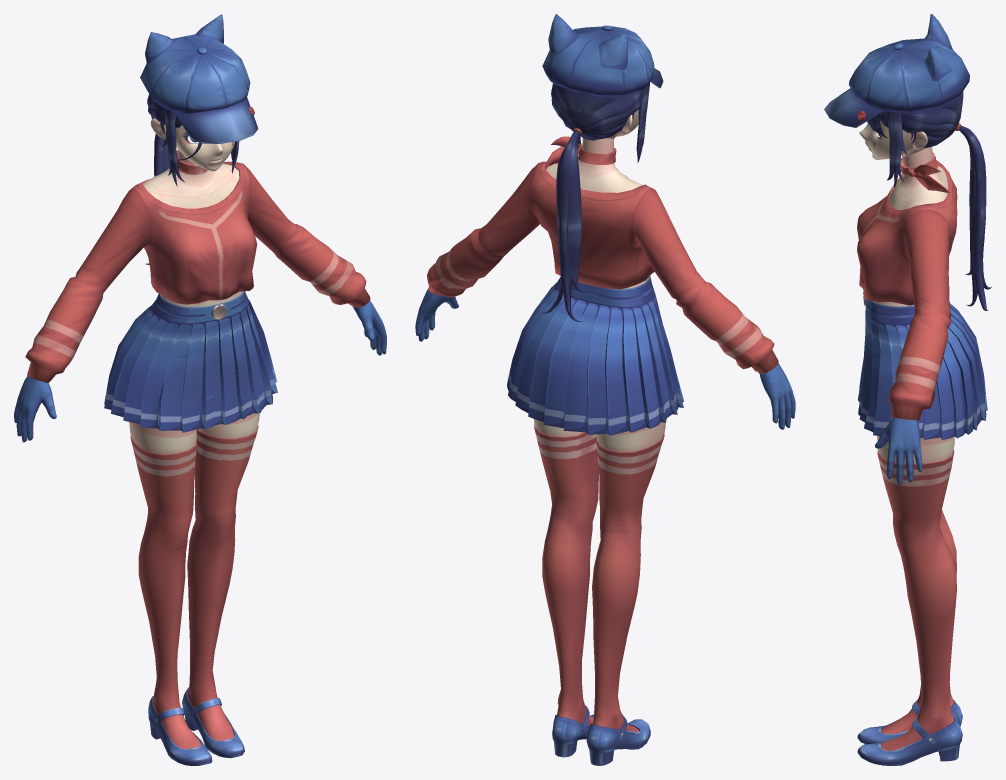
File: avatar.glb
3 renders of one model, left to right at view 1: azimuth 30°, elevation 25°; view 2: azimuth 150°, elevation 25°; view 3: azimuth 270°, elevation 25°, orthographic.
Parts seen in each view (by area): view 1: Sweater_1_004, Pantyhose_003, Skirt_005, CapCap, Body_007, Shoes_003, Gloves, Hair_004_1, Head_1_006; view 2: Pantyhose_003, Sweater_1_004, Skirt_005, Hair_004_1, CapCap, Body_007, Shoes_003, Gloves; view 3: Sweater_1_004, Pantyhose_003, Skirt_005, CapCap, Hair_004_1, Shoes_003, Body_007, Gloves, Head_1_006, Attribute_002.
Part boxes in pixels (x1,y1,x2,y2): Sweater_1_004: (25, 152, 370, 383); Pantyhose_003: (130, 425, 258, 748); Skirt_005: (104, 291, 277, 432); CapCap: (140, 14, 258, 143); Body_007: (129, 149, 259, 454); Shoes_003: (148, 687, 244, 765); Gloves: (14, 300, 386, 442); Hair_004_1: (145, 94, 239, 264); Head_1_006: (150, 118, 234, 171); Pantyhose_003: (534, 424, 664, 731); Sweater_1_004: (427, 136, 778, 373); Skirt_005: (507, 276, 683, 435); Hair_004_1: (540, 82, 649, 321); CapCap: (542, 14, 663, 96); Body_007: (533, 138, 665, 452); Shoes_003: (552, 705, 650, 765); Gloves: (415, 288, 795, 429); Sweater_1_004: (857, 153, 957, 420); Pantyhose_003: (877, 450, 956, 750); Skirt_005: (858, 289, 987, 440); CapCap: (824, 14, 969, 127); Hair_004_1: (867, 91, 991, 310); Shoes_003: (857, 699, 962, 765); Body_007: (874, 146, 954, 463); Gloves: (875, 417, 922, 484); Head_1_006: (859, 120, 927, 159); Attribute_002: (900, 152, 950, 192).
Size of the model in its own units: 1.76 by 3.32 by 0.7016.
5 materials, 5 textured.
